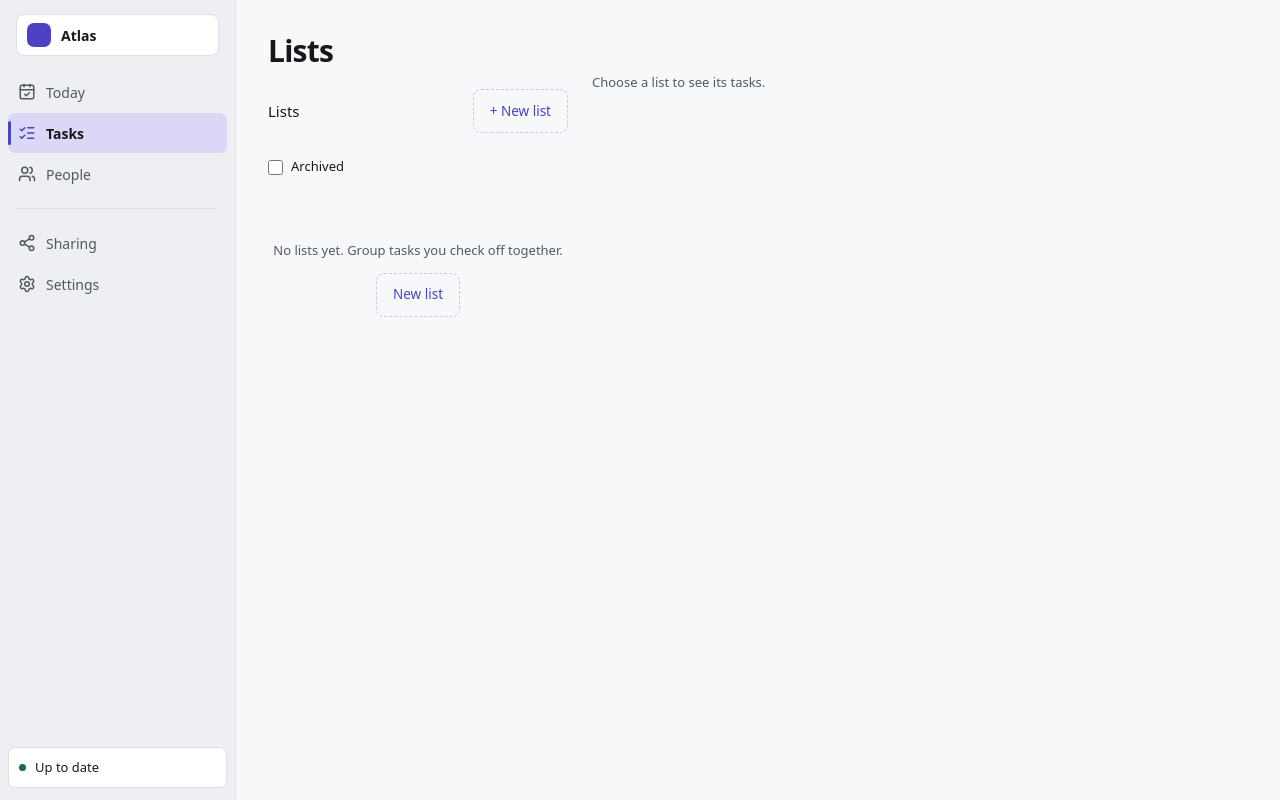
Test: L6: create › offline, defaults never fetched: create_list queued for review, the app goes to the projected list, Sharing waits
Click the button "+ New list" at (520,111), box [473,89,568,133]
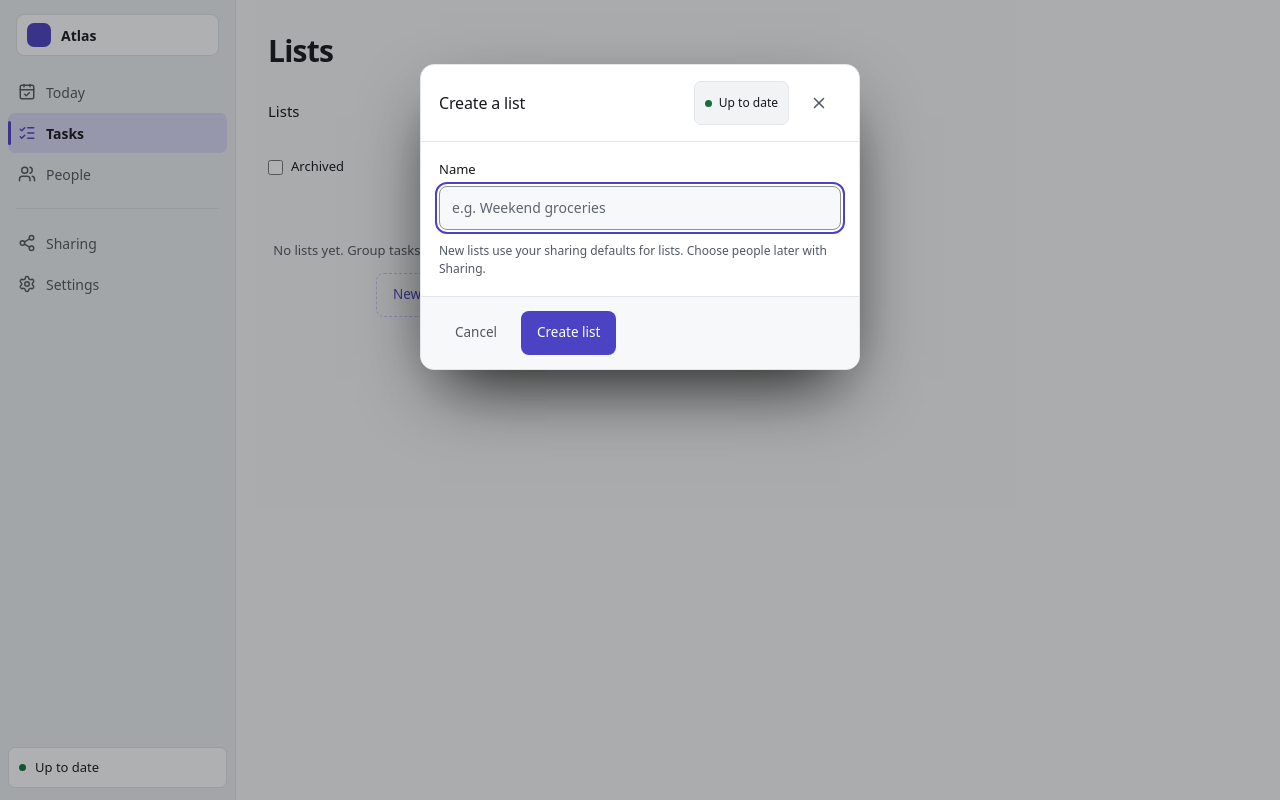
Now the text "New lists use your sharing defaults for lists. Choose people later with Sharing." is shown, box [439,242,841,278]
Type "Weekend groceries" into the field labelled "Name" at (640,208), box [439,186,841,230]
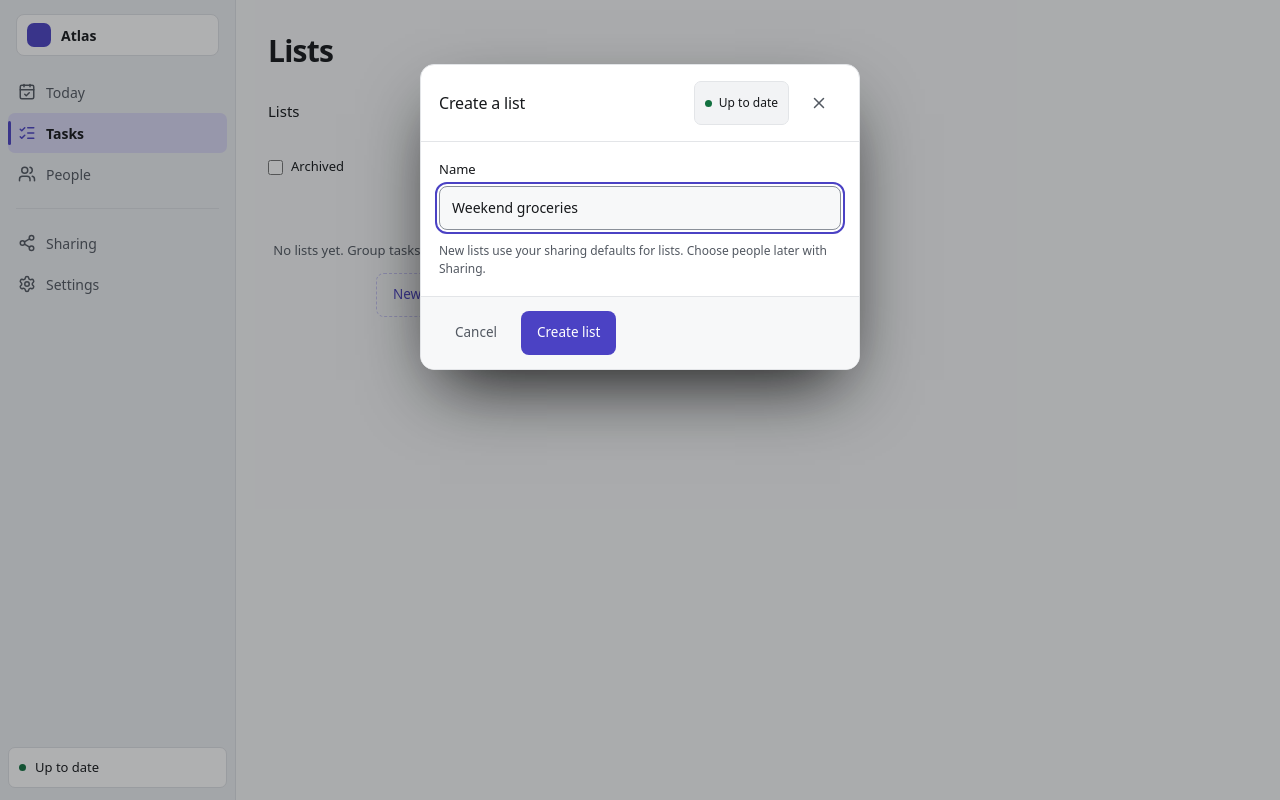
Now the button "Create list" is shown
Click the button "Create list" at (569,332), box [521,310,616,354]
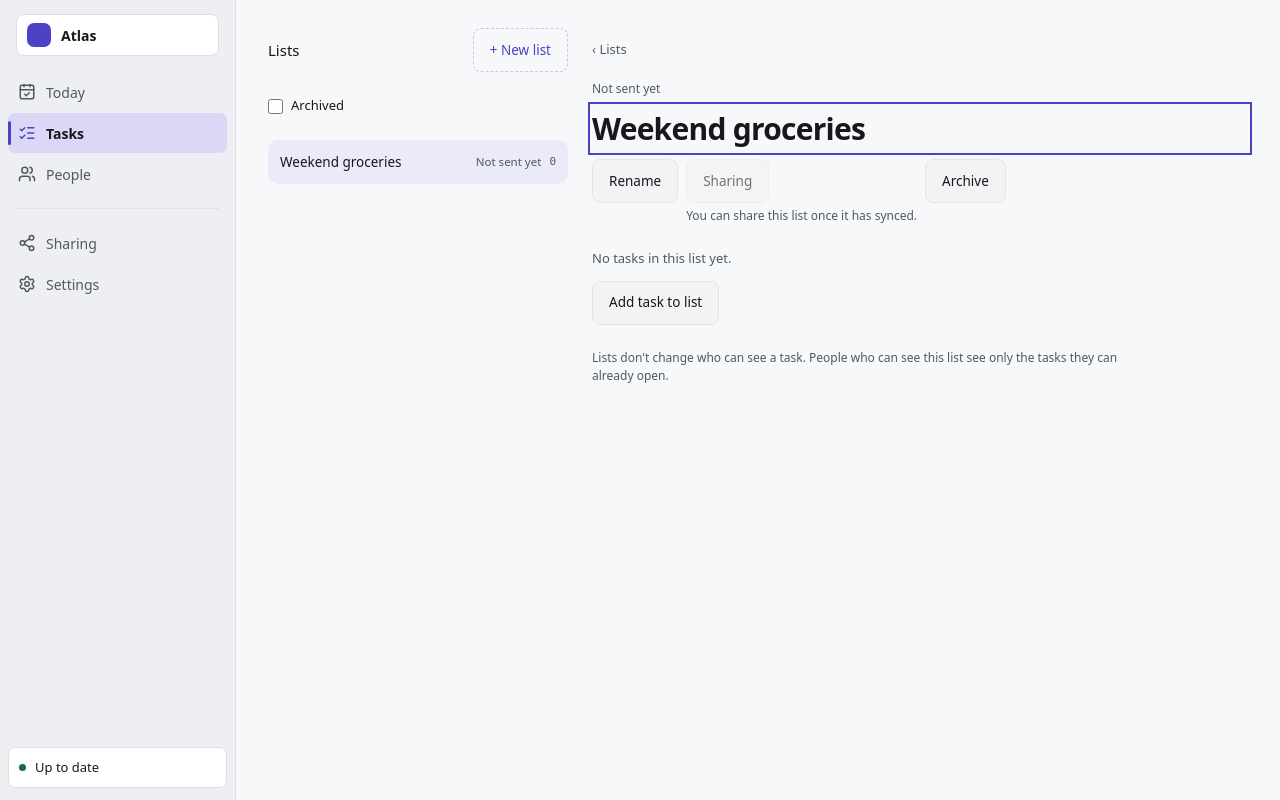
Now the element that starts with "‹ Lists" is shown, box [592,40,1117,384]
Now the text "Not sent yet" below "Archived" is shown, box [476,154,541,169]
Now the text "You can share this list once it has synced." is shown, box [686,207,917,225]
